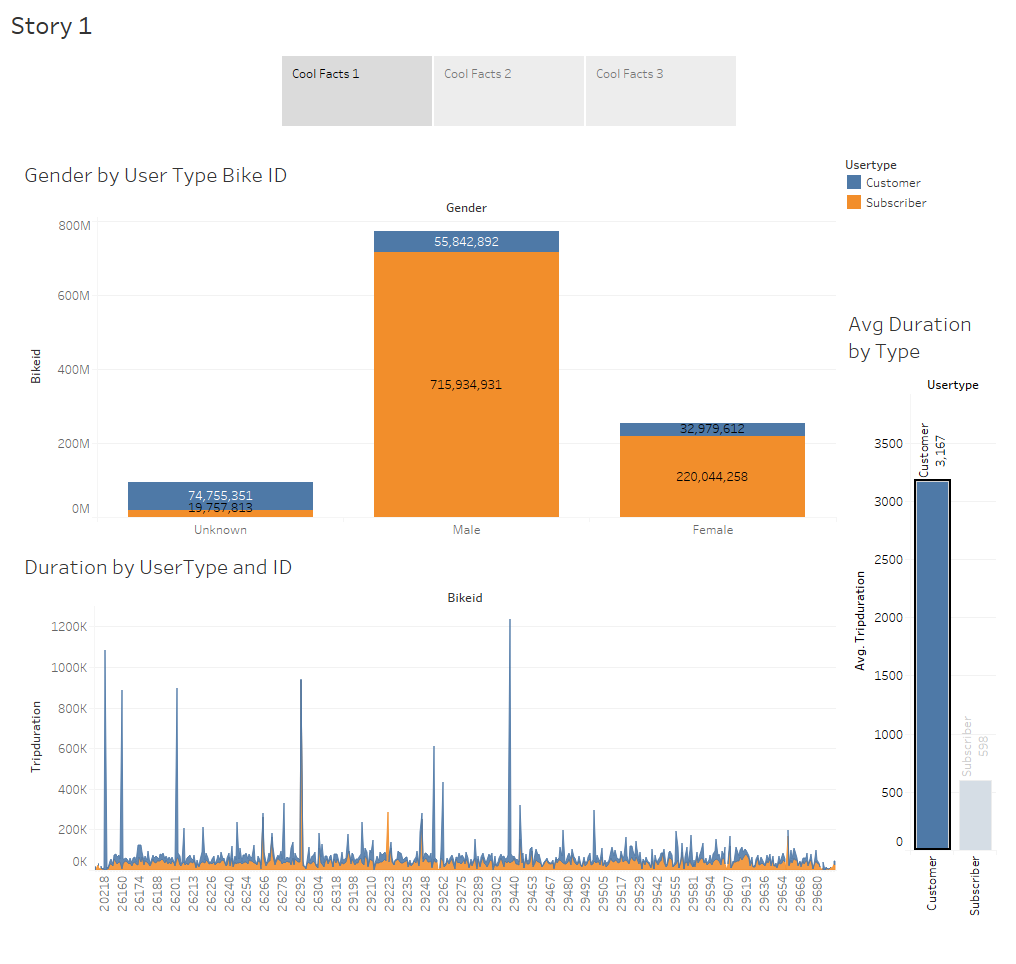

The page's visual inventory and layout, read from the dashboard file:
{"tool":"tableau","page":{"name":"Basics","canvas":[1000,800],"ordinal":0},"visuals":[{"type":"worksheet","title":"Gender by User Type Bike ID","mark":"Automatic","rows":["bikeid"],"cols":["gender"],"box":[8,8,824,392]},{"type":"legend","title":"Gender by User Type Bike ID","param":"[federated.04qnhir0km6jr519w11x91pxvwr0].[none:usertype:nk]","box":[832,8,160,149]},{"type":"worksheet","title":"Avg Duration by Type","mark":"Automatic","rows":["tripduration"],"cols":["usertype"],"box":[832,157,160,635]},{"type":"worksheet","title":"Duration by UserType and ID","mark":"Area","rows":["tripduration"],"cols":["bikeid"],"box":[8,400,824,392]}]}

Visuals, with their boxes on the page's 1000x800 design canvas (x1, y1, x2, y2). These are canvas units, not pixel positions in the 1016x964 screenshot, which may show the page scaled, cropped or inside an application window:
"Gender by User Type Bike ID" worksheet: crop(8, 8, 832, 400)
"Gender by User Type Bike ID" legend: crop(832, 8, 992, 157)
"Avg Duration by Type" worksheet: crop(832, 157, 992, 792)
"Duration by UserType and ID" worksheet (Area marks): crop(8, 400, 832, 792)
